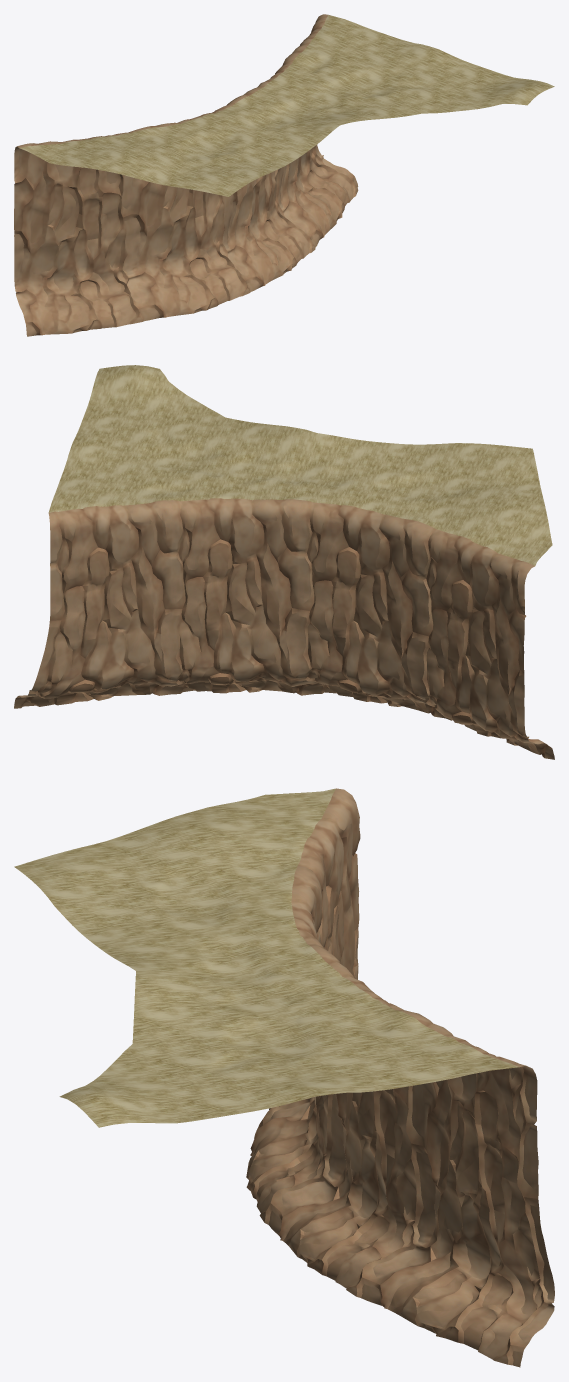
The model's file is SM_ENV_KNFRST_Cliff_Ca.FBX.
The picture shows the model from 3 angles, top to bottom: view 1: azimuth 30°, elevation 25°; view 2: azimuth 150°, elevation 25°; view 3: azimuth 270°, elevation 25°; orthographic projection. The views are drawn at different scales.
Visible parts, largest first — view 1: SM_ENV_KNFRST_Cliff_Ca; view 2: SM_ENV_KNFRST_Cliff_Ca; view 3: SM_ENV_KNFRST_Cliff_Ca.
Boxes of the visible parts, x1,y1,x2,y2 form: SM_ENV_KNFRST_Cliff_Ca: [14, 14, 554, 336]; SM_ENV_KNFRST_Cliff_Ca: [14, 365, 554, 759]; SM_ENV_KNFRST_Cliff_Ca: [14, 788, 554, 1367].
Size of the model in its own units: 6589 by 2605 by 4293.
